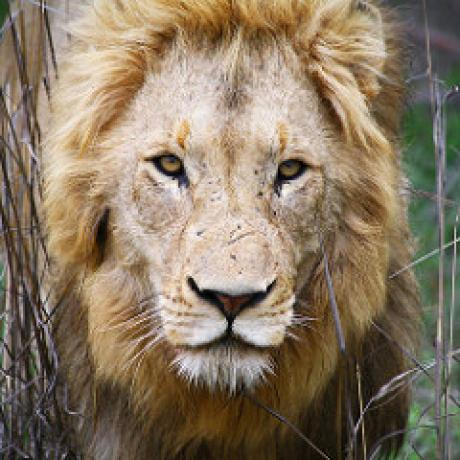Lion: (36, 0, 421, 460)
